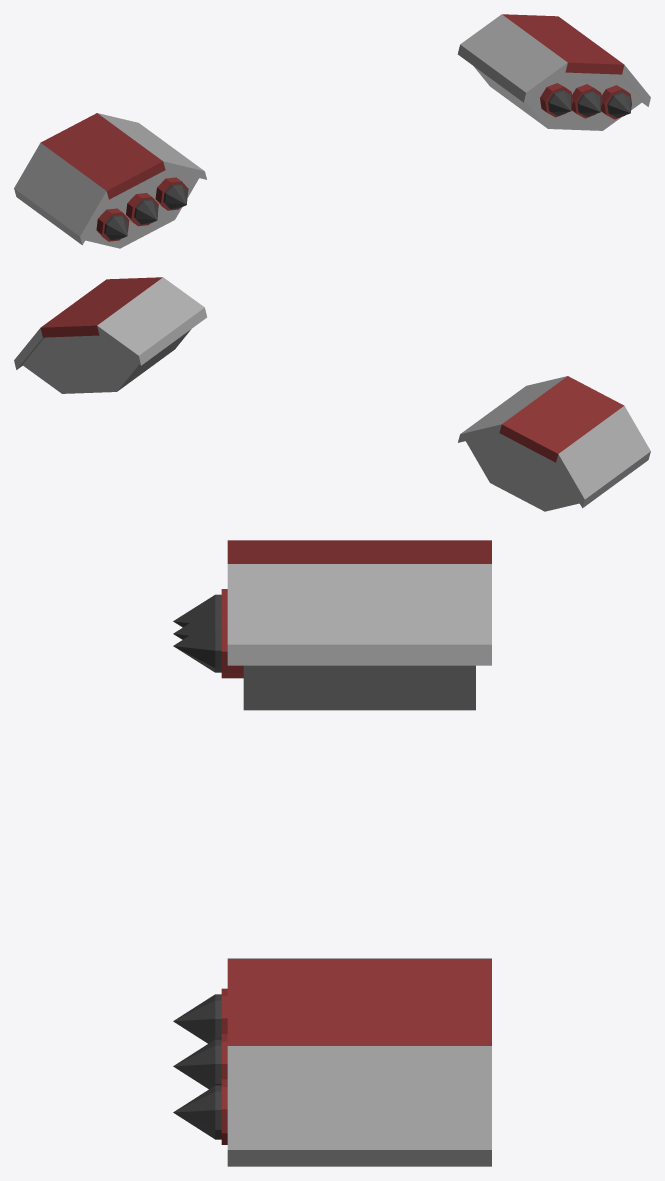
Rendered from PlayerRPG.fbx.
3 views of the same model, one above another, from view 1: azimuth 30°, elevation 25°; view 2: azimuth 150°, elevation 25°; view 3: azimuth 270°, elevation 25° (orthographic). The views are drawn at different scales.
Parts seen in each view (by area): view 1: pCube4; view 2: pCube4; view 3: pCube4.
Part boxes in pixels (x1=…): pCube4: x1=14, y1=14, x2=650, y2=248; pCube4: x1=14, y1=277, x2=650, y2=511; pCube4: x1=173, y1=540, x2=491, y2=1166.
Bounding box in the file's own units: 366 × 49.49 × 88.53.
